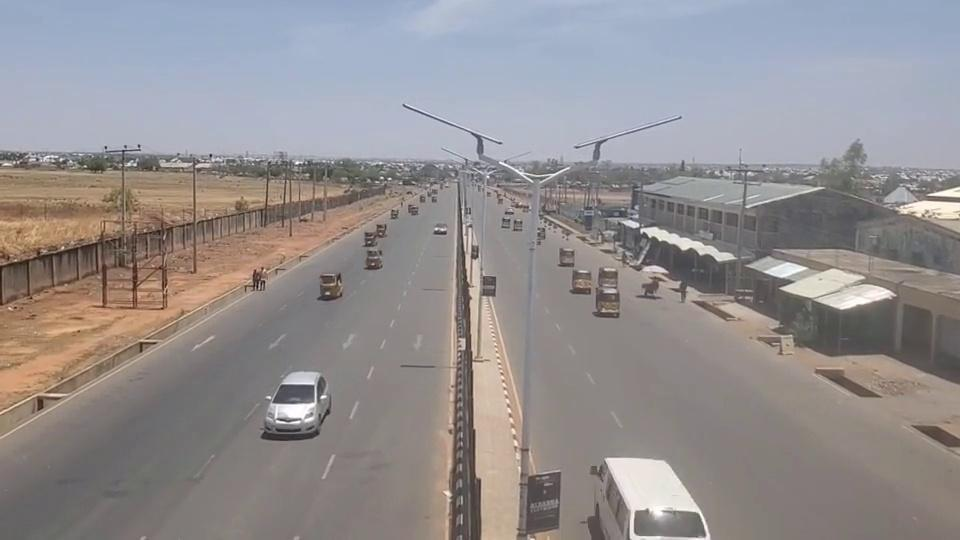bus: (596, 457, 711, 538)
car: (263, 370, 330, 435)
keke: (318, 271, 343, 298), (571, 268, 592, 293), (598, 266, 618, 287), (365, 249, 383, 269), (558, 247, 575, 266)
